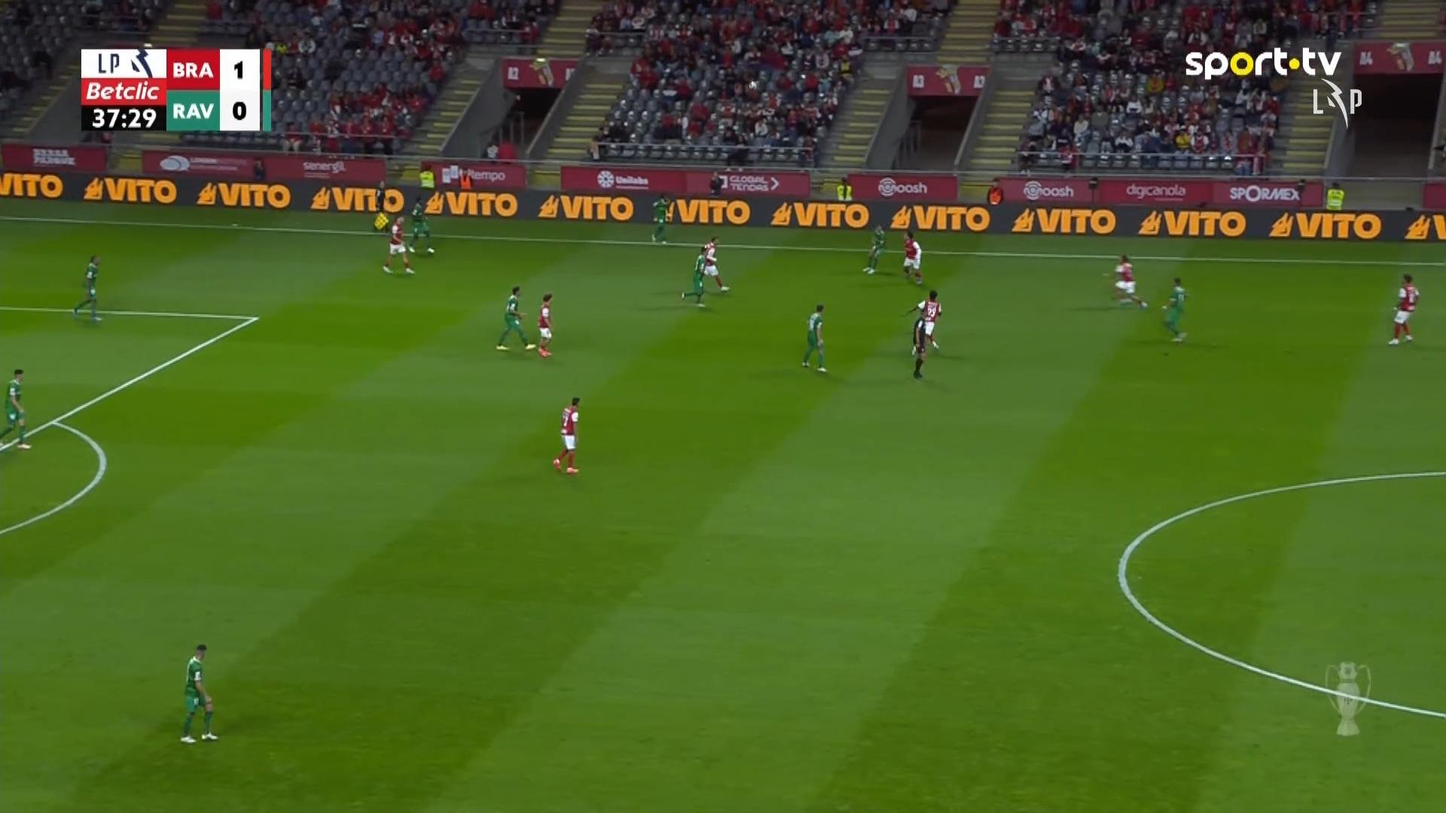player: (179, 643, 218, 742), (680, 236, 729, 306), (495, 285, 536, 351), (0, 367, 32, 449), (902, 289, 943, 351), (1387, 273, 1420, 344), (552, 396, 581, 473), (1110, 253, 1148, 309), (381, 215, 415, 275), (72, 254, 102, 321), (801, 303, 827, 373), (1161, 276, 1188, 343), (680, 245, 709, 307), (406, 196, 435, 254), (700, 236, 730, 292), (535, 292, 554, 357), (862, 223, 886, 274), (901, 230, 923, 285), (650, 192, 670, 243)
referee: (910, 307, 928, 378), (372, 181, 390, 231)
